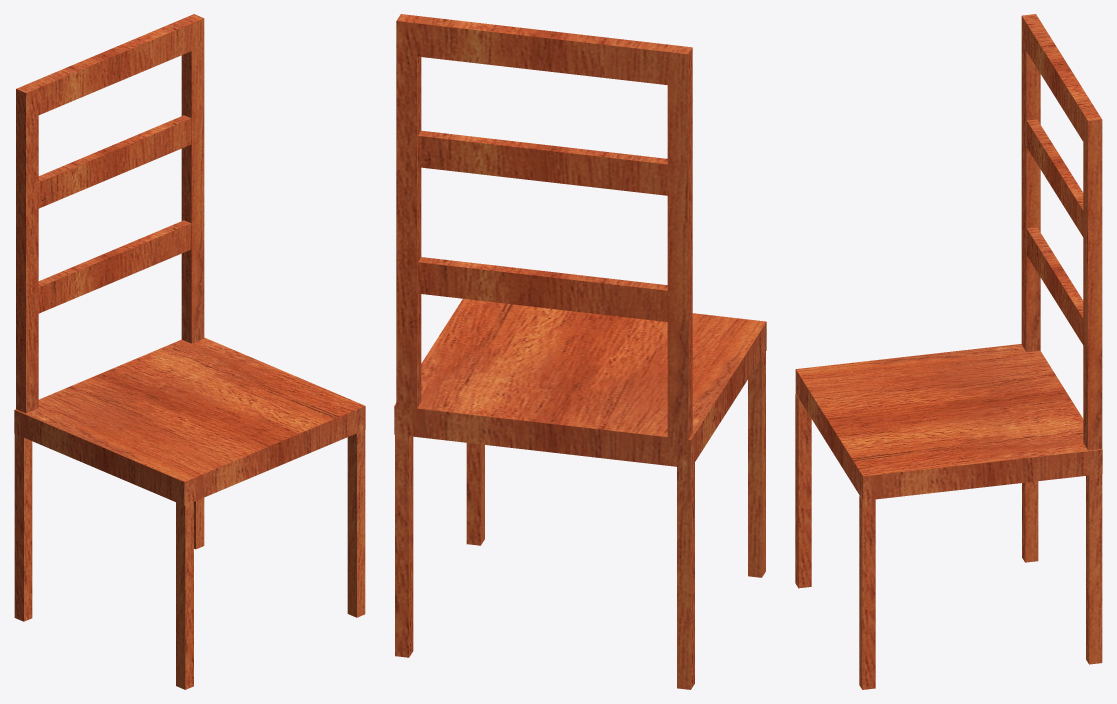
Rendered from KAREKLA.fbx.
The picture shows the model from 3 angles, left to right: view 1: azimuth 30°, elevation 25°; view 2: azimuth 150°, elevation 25°; view 3: azimuth 270°, elevation 25°; orthographic projection. The views are drawn at different scales.
Parts seen in each view (by area): view 1: Box001, Box006, Box007, Box008, Box004, Box002, Box005, Box003; view 2: Box001, Box006, Box007, Box008, Box003, Box002, Box005, Box004; view 3: Box001, Box006, Box004, Box003, Box005, Box007, Box008, Box002.
Boxes of the visible parts, box(x1,y1,x2,y2) form: Box001: box(14, 337, 365, 505); Box006: box(16, 14, 204, 413); Box007: box(38, 115, 191, 208); Box008: box(38, 220, 191, 313); Box004: box(347, 430, 365, 617); Box002: box(14, 434, 32, 621); Box005: box(176, 502, 193, 689); Box003: box(194, 498, 204, 549); Box001: box(394, 298, 766, 468); Box006: box(396, 14, 692, 466); Box007: box(418, 130, 667, 195); Box008: box(418, 257, 667, 321); Box003: box(395, 434, 413, 657); Box002: box(677, 462, 694, 689); Box005: box(748, 352, 765, 577); Box004: box(466, 443, 484, 545); Box001: box(795, 344, 1102, 500); Box006: box(1021, 14, 1102, 450); Box004: box(859, 495, 875, 689); Box003: box(1086, 474, 1102, 664); Box005: box(795, 394, 811, 588); Box007: box(1026, 119, 1083, 236); Box008: box(1026, 227, 1083, 344); Box002: box(1022, 481, 1038, 562).
Size of the model in its own units: 58.56 by 111 by 56.66.
